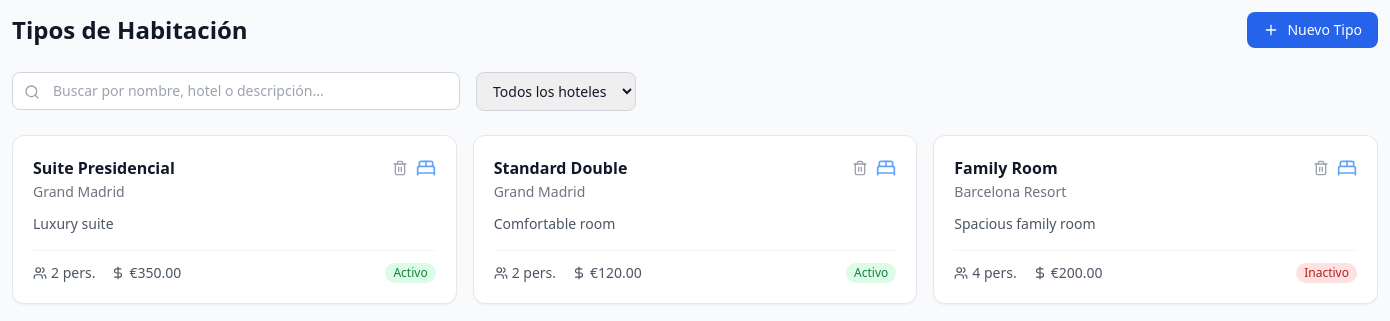
RoomsPage › should filter rooms by search text
expect the heading "Suite Presidencial" is shown: met, box [33,157,175,179]
Type "suite" into the field with placeholder "Buscar por nombre, hotel o descripción..." at (236, 91), box [12,72,460,110]
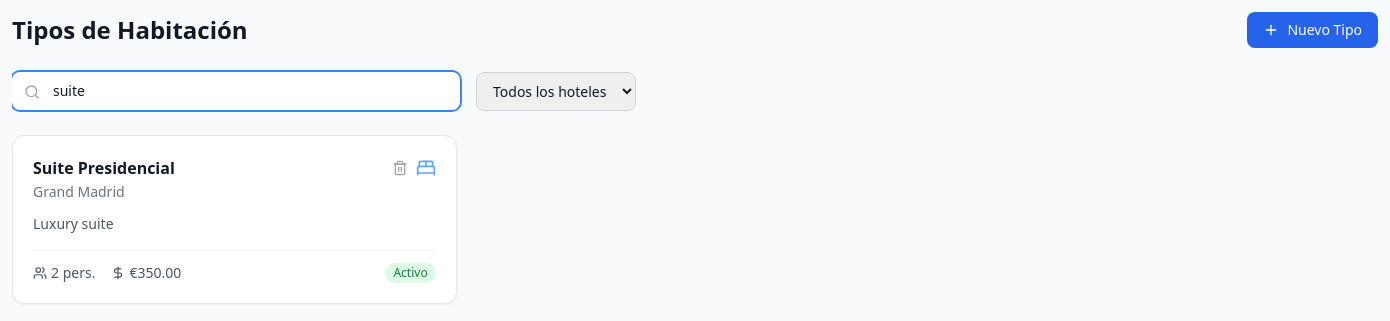
expect the heading "Suite Presidencial" is shown: met, box [33,157,175,179]
expect the heading "Standard Double" is gone: met
expect the heading "Family Room" is gone: met
